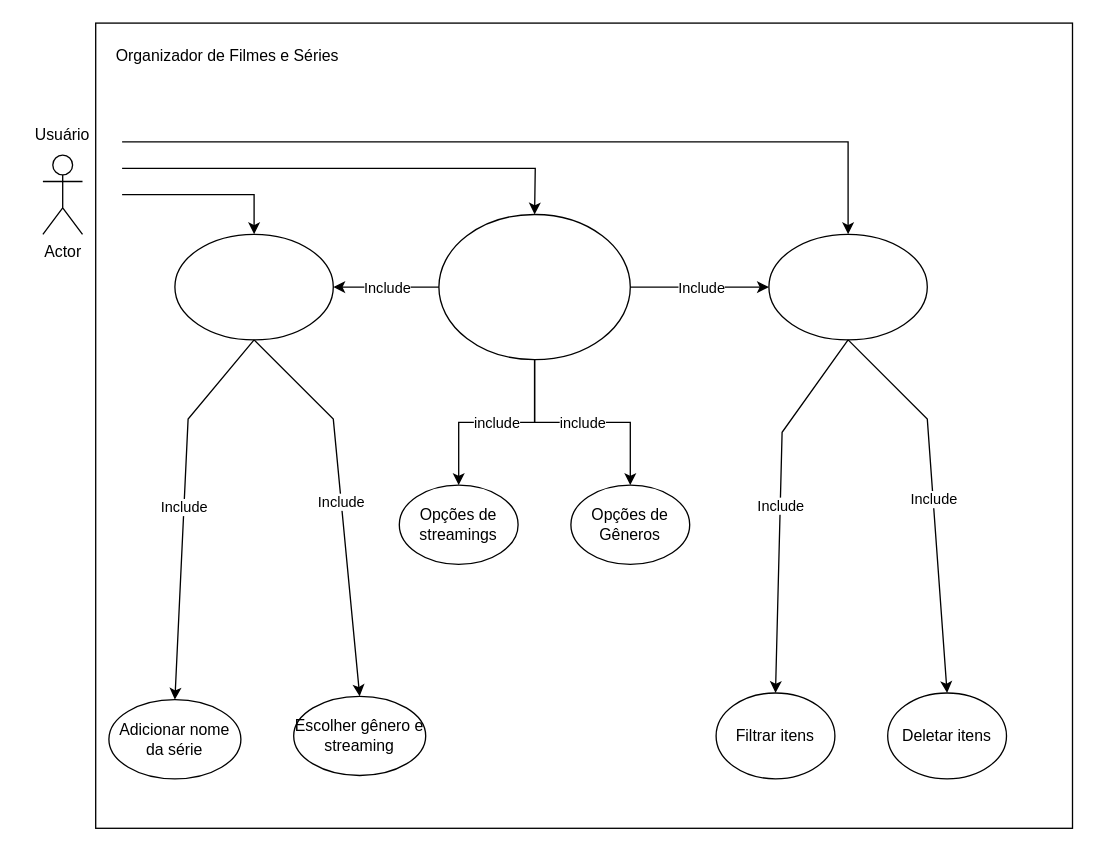
Some shapes in this 1096 by 851 pixel diagram are drawn without their labels. Each missing label, with the box of its shape:
Adicionar série: (174, 233, 333, 340)
Lista de séries: (438, 213, 630, 360)
Ver lista de série: (768, 233, 927, 340)
